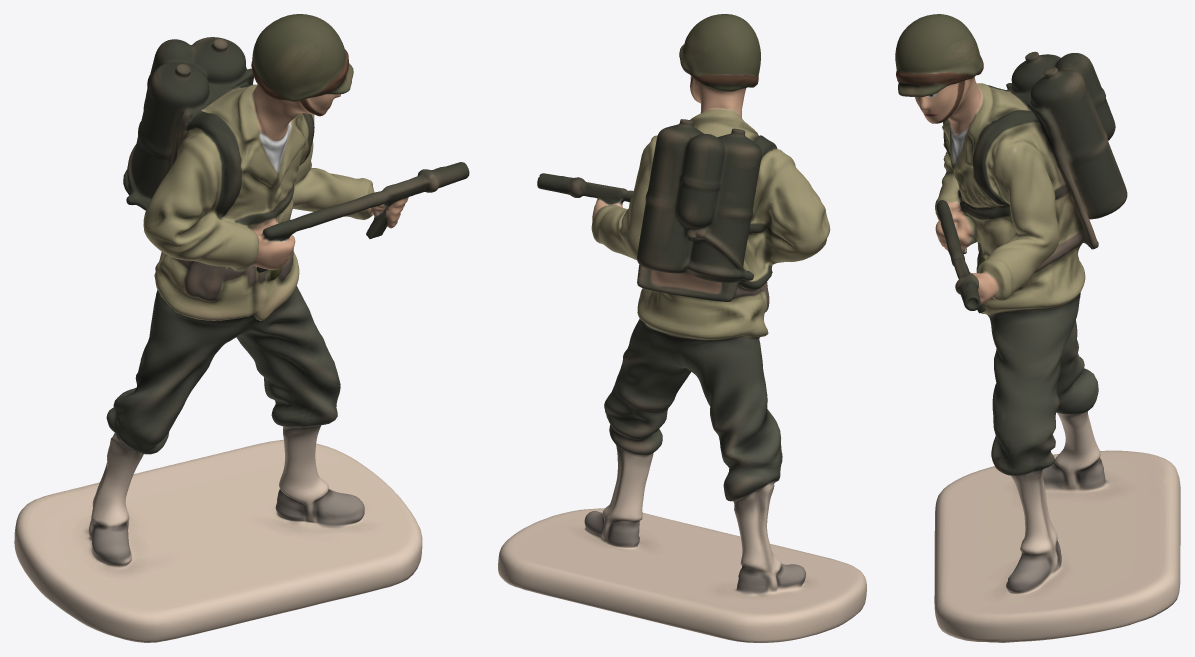
The model's file is soldier.gltf.
3 views of the same model, side by side, from view 1: azimuth 30°, elevation 25°; view 2: azimuth 150°, elevation 25°; view 3: azimuth 270°, elevation 25° (orthographic). The views are drawn at different scales.
Visible parts, largest first — view 1: 14074_WWII_Soldier_with_Flamethrower_v1_l1; view 2: 14074_WWII_Soldier_with_Flamethrower_v1_l1; view 3: 14074_WWII_Soldier_with_Flamethrower_v1_l1.
Boxes of the visible parts, left/top/right/bottom form: 14074_WWII_Soldier_with_Flamethrower_v1_l1: left=14, top=14, right=469, bottom=642; 14074_WWII_Soldier_with_Flamethrower_v1_l1: left=498, top=14, right=866, bottom=642; 14074_WWII_Soldier_with_Flamethrower_v1_l1: left=895, top=14, right=1180, bottom=642.
Size of the model in its own units: 0.9965 by 1.49 by 0.6844.
1 material, 1 textured.
